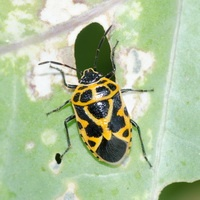insect: (39, 22, 150, 166)
